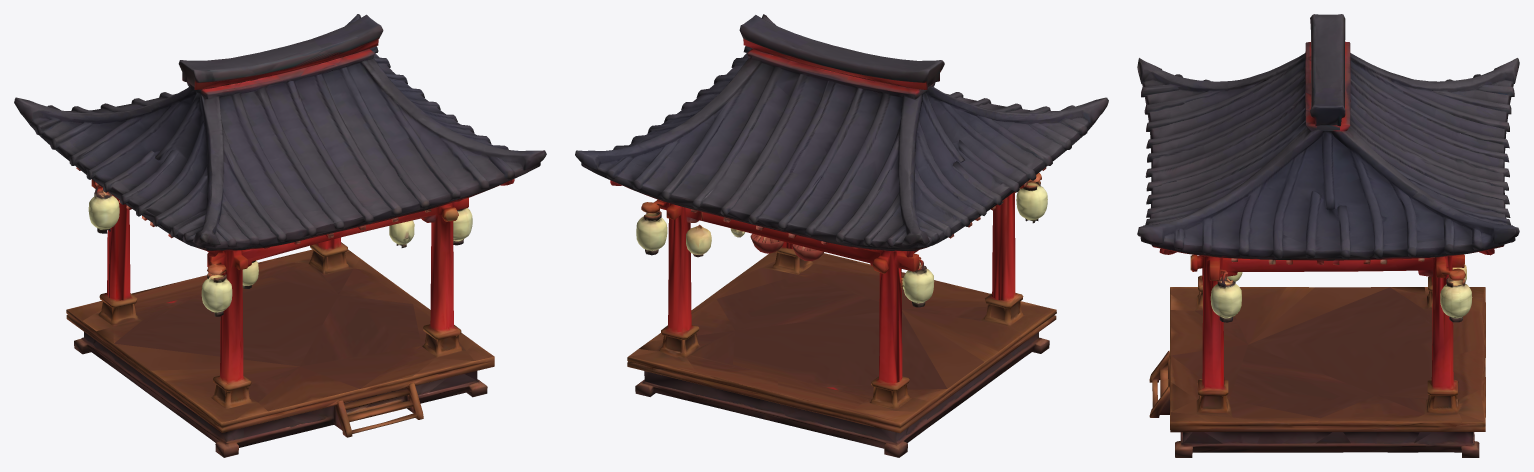
The model's file is bld_japan_pavilion.fbx.
3 views of the same model, side by side, from view 1: azimuth 30°, elevation 25°; view 2: azimuth 150°, elevation 25°; view 3: azimuth 270°, elevation 25° (orthographic).
Visible parts, largest first — view 1: bld_japan_pavilion_LOD0; view 2: bld_japan_pavilion_LOD0; view 3: bld_japan_pavilion_LOD0.
Boxes of the visible parts, x1,y1,x2,y2 form: bld_japan_pavilion_LOD0: [14, 14, 546, 457]; bld_japan_pavilion_LOD0: [575, 14, 1108, 457]; bld_japan_pavilion_LOD0: [1137, 14, 1519, 457].
Size of what is drawn, in the model's own units: 0.9795 by 0.8855 by 0.9219.
